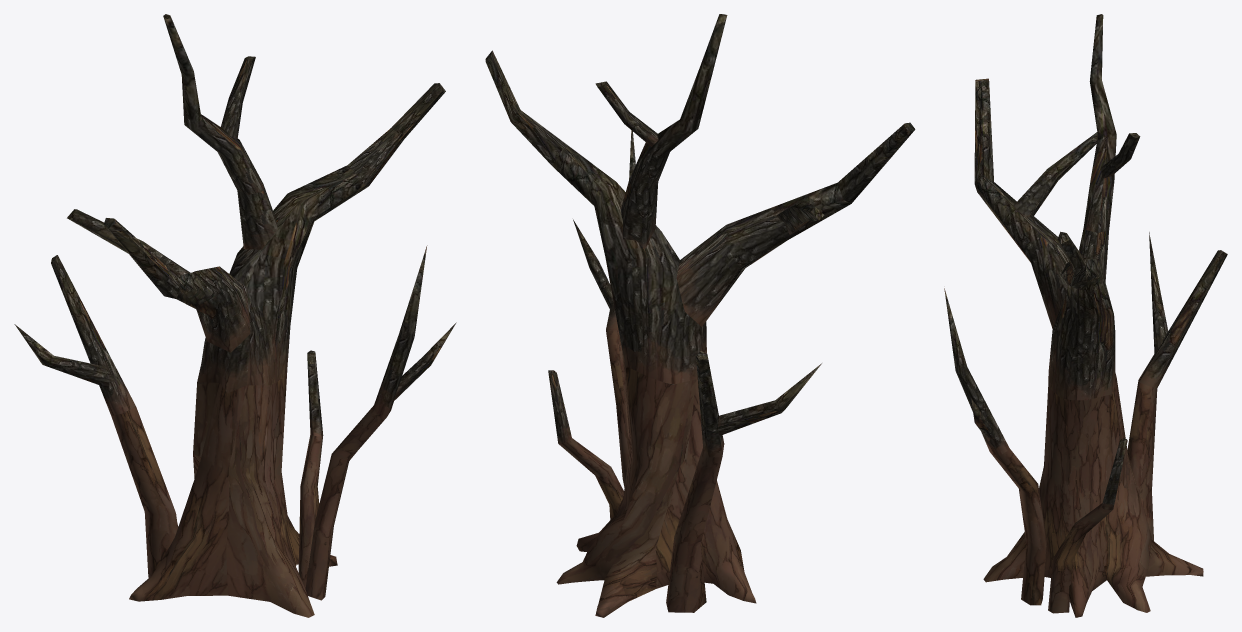
The model's file is 2_Plant_KuShu_03.FBX.
3 renders of one model, left to right at view 1: azimuth 30°, elevation 25°; view 2: azimuth 150°, elevation 25°; view 3: azimuth 270°, elevation 25°, orthographic. The views are drawn at different scales.
Parts seen in each view (by area): view 1: 2_Plant_KuShu_03; view 2: 2_Plant_KuShu_03; view 3: 2_Plant_KuShu_03.
Boxes of the visible parts, left/top/right/bottom form: 2_Plant_KuShu_03: left=14, top=14, right=456, bottom=617; 2_Plant_KuShu_03: left=485, top=14, right=915, bottom=617; 2_Plant_KuShu_03: left=944, top=14, right=1227, bottom=617.
Size of the model in its own units: 373 by 547 by 260.
2 materials, 2 textured.
